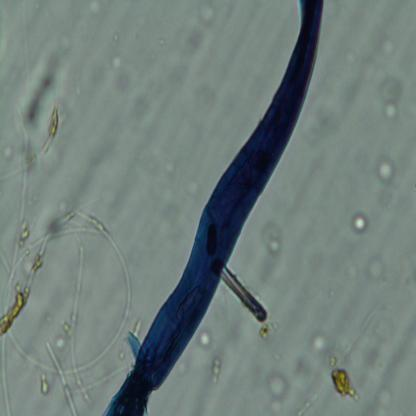Background material: (13, 51, 64, 143), (68, 130, 121, 209), (221, 267, 270, 325), (367, 70, 403, 122), (350, 331, 390, 377), (184, 2, 221, 47), (370, 156, 394, 202), (268, 368, 290, 415), (334, 367, 360, 405), (360, 248, 390, 278), (204, 346, 223, 388), (262, 228, 288, 258), (101, 48, 129, 71), (349, 210, 372, 235), (311, 332, 331, 356), (184, 173, 201, 194), (63, 30, 72, 50), (168, 162, 176, 177)
Cotton: (104, 0, 328, 416)
Glass filter fibre: (0, 202, 136, 374), (0, 157, 33, 413), (69, 237, 92, 406), (46, 342, 77, 414)
